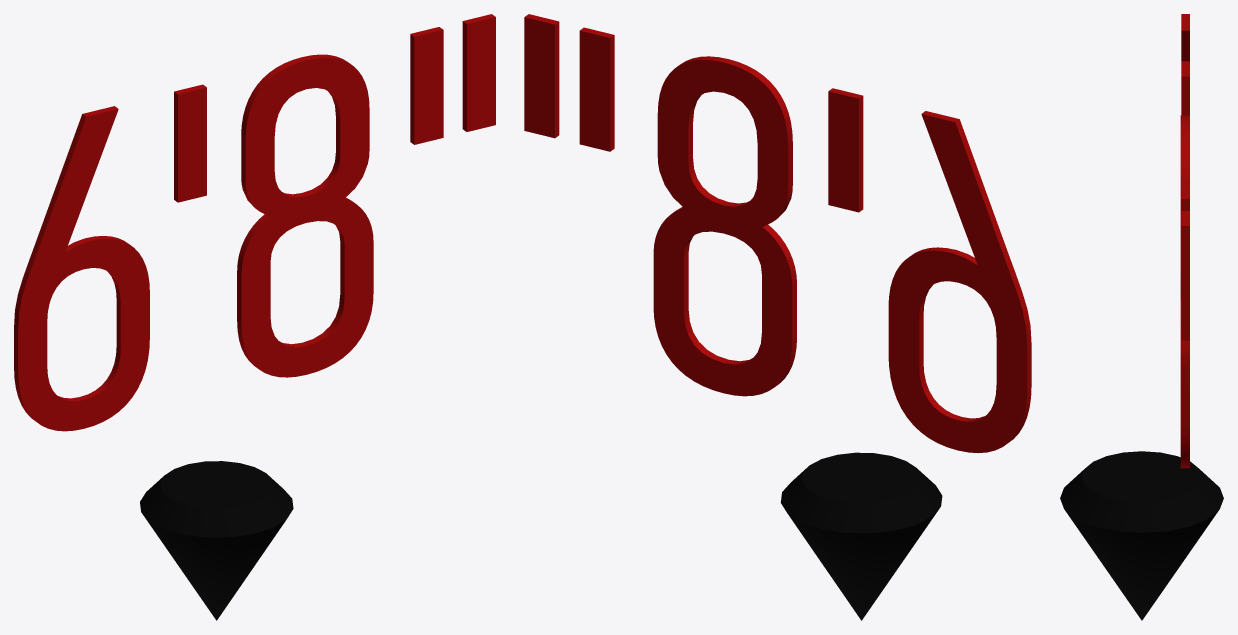
File: SixFootEight.fbx
The picture shows the model from 3 angles, left to right: view 1: azimuth 30°, elevation 25°; view 2: azimuth 150°, elevation 25°; view 3: azimuth 270°, elevation 25°; orthographic projection. The views are drawn at different scales.
Visible parts, largest first — view 1: polySurface9; view 2: polySurface9; view 3: polySurface9.
Boxes of the visible parts, x1,y1,x2,y2 form: polySurface9: [14, 14, 495, 620]; polySurface9: [524, 14, 1031, 620]; polySurface9: [1060, 14, 1223, 620].
Bounding box in the file's own units: 19.17 × 19.97 × 5.37.
